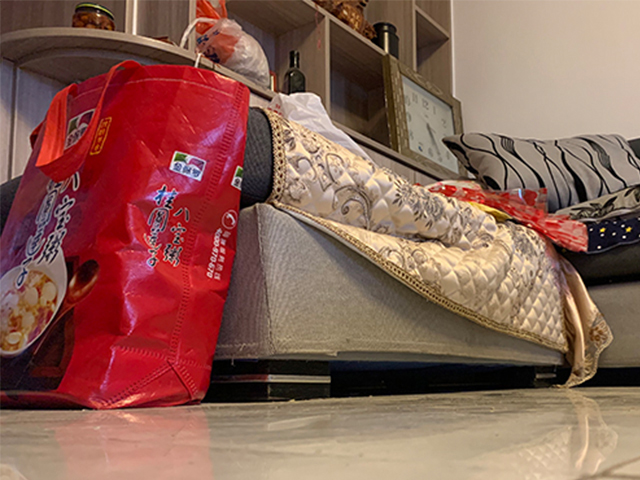sofa: (204, 105, 639, 404)
